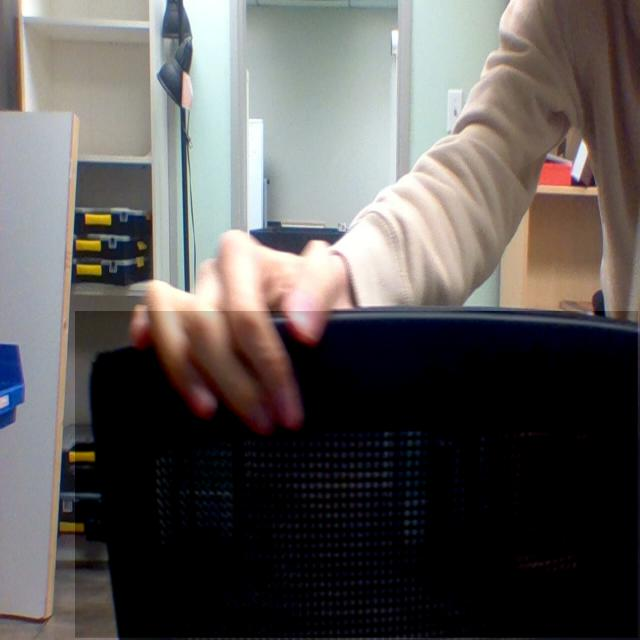black-chair: (75, 311, 639, 639)
